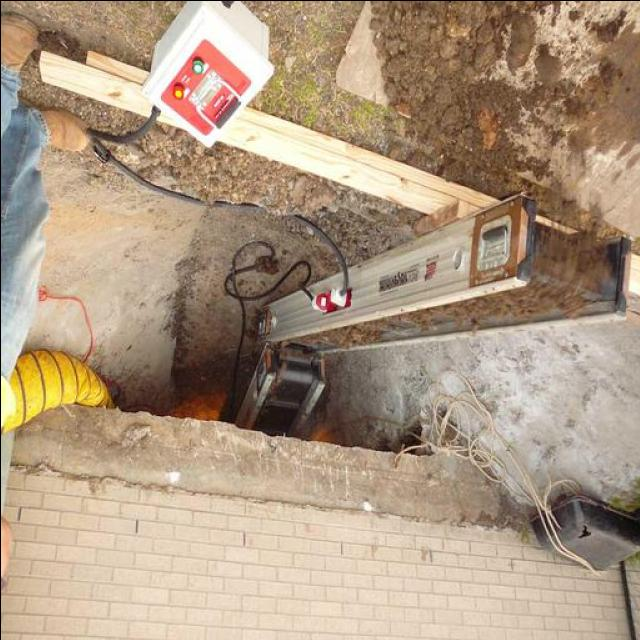conveyor: (251, 271, 613, 426)
